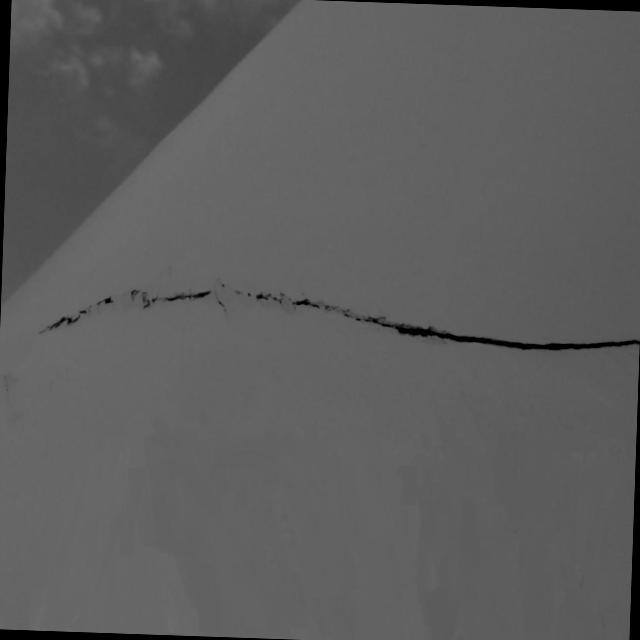crack: (27, 276, 634, 365)
